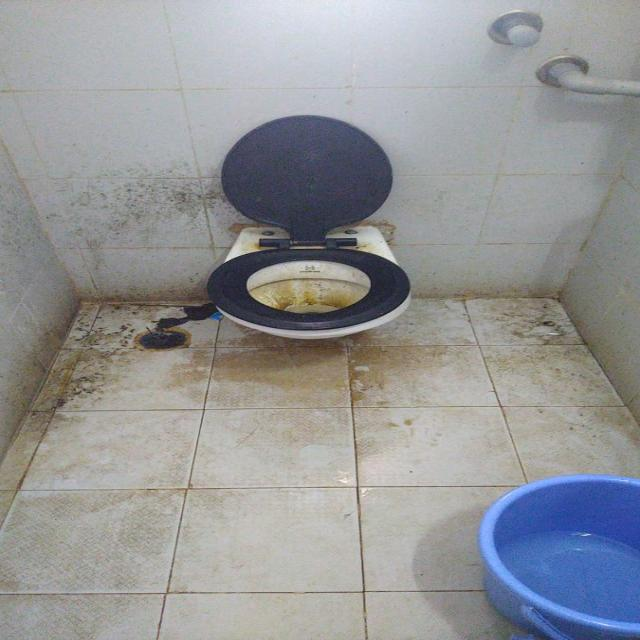dirty_floor: (1, 293, 638, 637)
